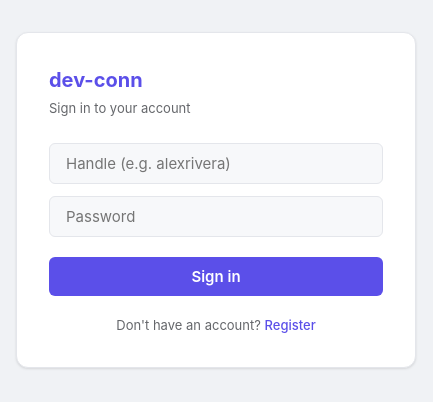
Scenario: AuthPage › shows a friendly message when the request throws
The image size is (433, 402).
Type "alex" into the field with placeholder "Handle (e.g. alexrivera)" at (216, 163), box x1=49 y1=142 x2=383 y2=184
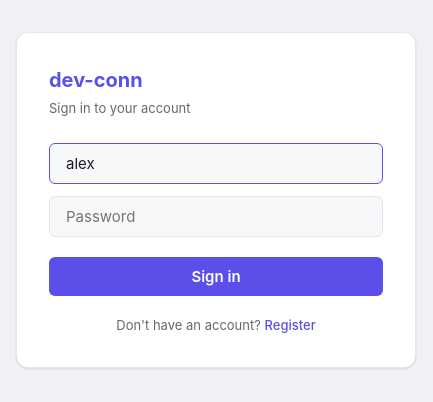
Type "secret" into the password field with placeholder "Password" at (216, 216), box x1=49 y1=196 x2=383 y2=236
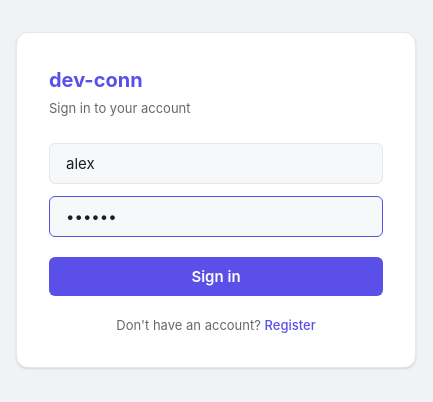
Click the button "Sign in" at (216, 276), box x1=49 y1=256 x2=383 y2=296
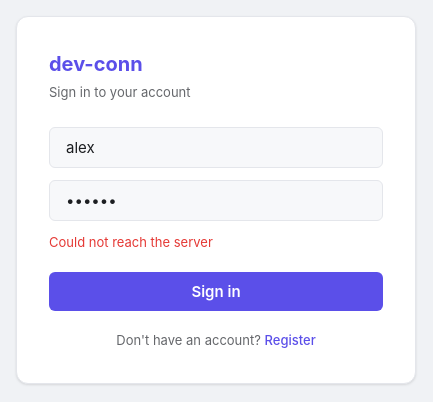
Expected: the text "Could not reach the server" is shown, x1=49 y1=234 x2=213 y2=250
